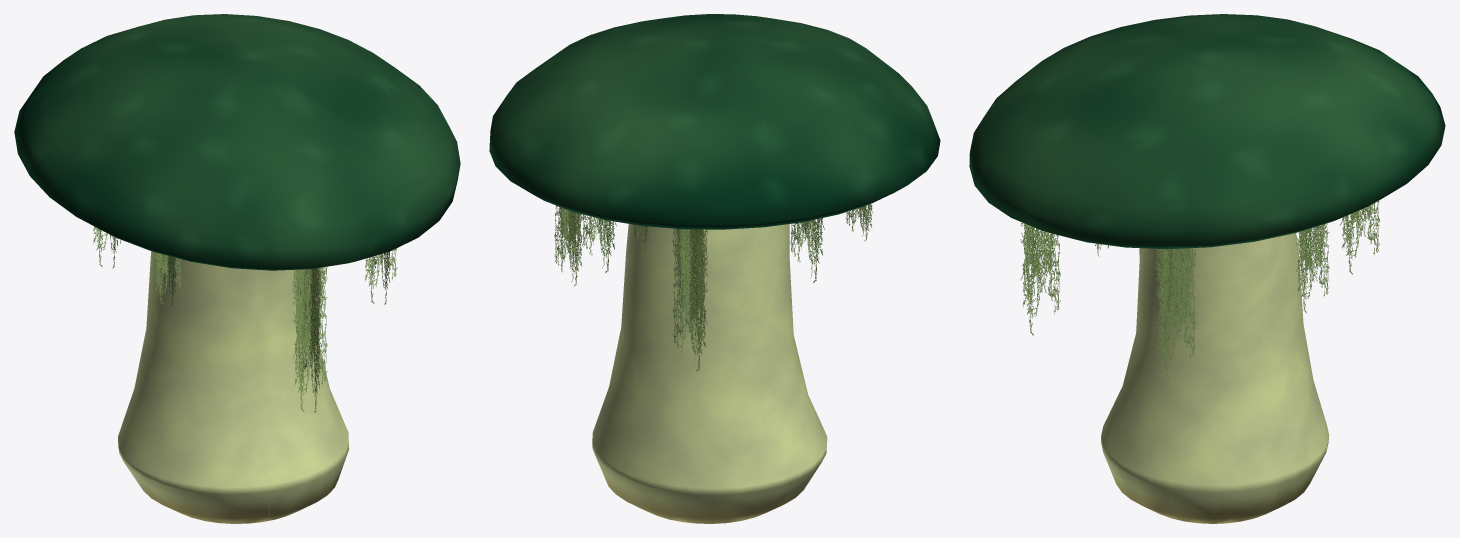
The model's file is shrump.obj.
3 renders of one model, left to right at view 1: azimuth 30°, elevation 25°; view 2: azimuth 150°, elevation 25°; view 3: azimuth 270°, elevation 25°, orthographic.
Parts seen in each view (by area): view 1: Head.001, Plane.004, Plane.003, Plane; view 2: Head.001, Plane.001, Plane.006, Plane.004, Plane; view 3: Head.001, Plane, Plane.004, Plane.006, Plane.001.
Boxes of the visible parts, left/top/right/bottom form: Head.001: left=14, top=14, right=460, bottom=523; Plane.004: left=292, top=267, right=327, bottom=412; Plane.003: left=154, top=253, right=181, bottom=304; Plane: left=365, top=248, right=397, bottom=304; Head.001: left=489, top=14, right=940, bottom=523; Plane.001: left=672, top=228, right=708, bottom=371; Plane.006: left=554, top=205, right=583, bottom=286; Plane.004: left=790, top=218, right=824, bottom=283; Plane: left=582, top=214, right=616, bottom=273; Head.001: left=969, top=14, right=1445, bottom=523; Plane: left=1155, top=248, right=1196, bottom=377; Plane.004: left=1020, top=222, right=1060, bottom=335; Plane.006: left=1296, top=223, right=1329, bottom=313; Plane.001: left=1339, top=201, right=1380, bottom=274.
Bounding box in the file's own units: 9.77 × 10.82 × 10.59.
